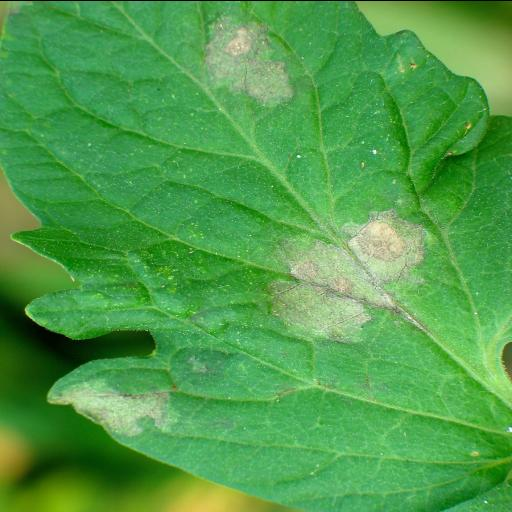disease_tomato: (8, 3, 502, 497)
